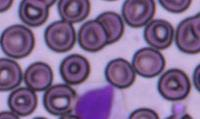L: (74, 82, 127, 119)
